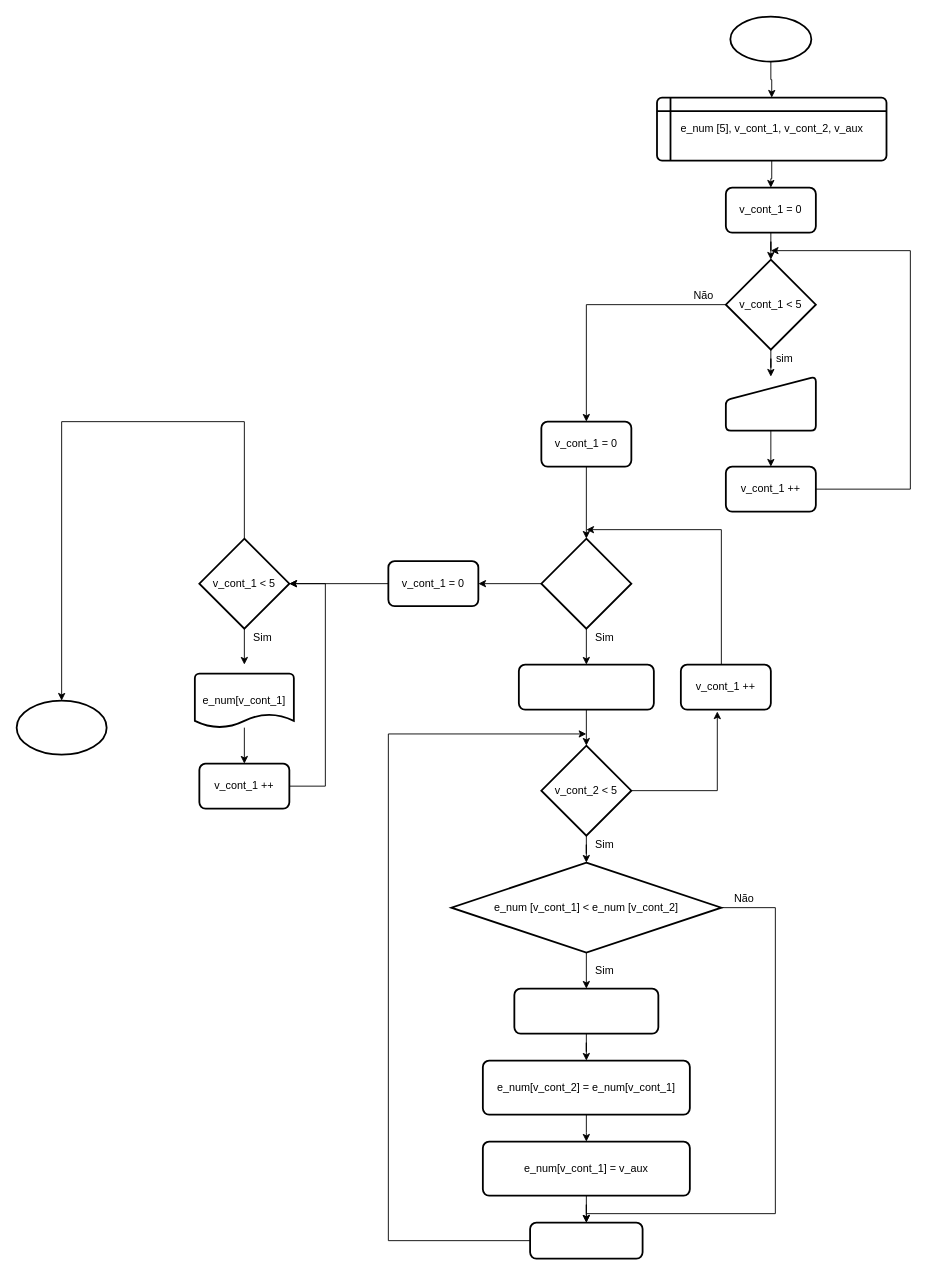
This 933x1274 diagram has some shape labels left out. Here are the shapes that lost their labels. From the top down, the centre of each, then its label:
(770,38): Inicio
(770,403): e_num [v_cont]
(586,583): v_cont_1 < 4
(586,686): v_cont_2 = v_cont_1 + 1
(61,727): Fim
(586,1010): v_aux = e_num [v_cont_2]
(586,1240): v_cont_2 ++
